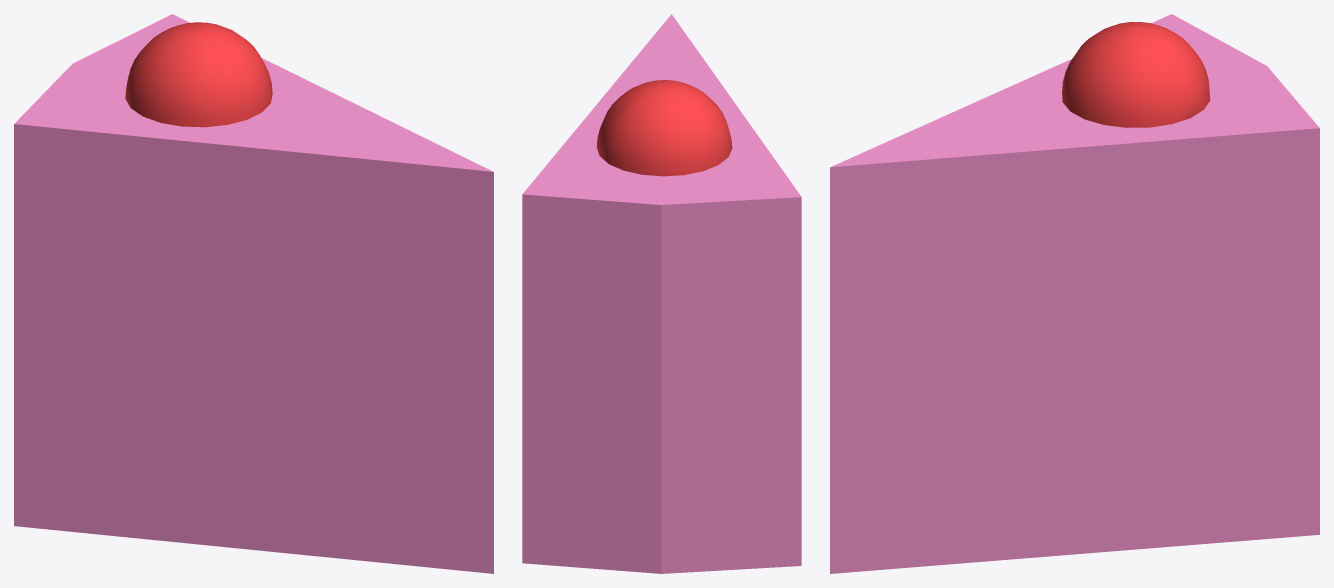
The model's file is ToyObject_220.fbx.
The picture shows the model from 3 angles, left to right: view 1: azimuth 30°, elevation 25°; view 2: azimuth 150°, elevation 25°; view 3: azimuth 270°, elevation 25°; orthographic projection. The views are drawn at different scales.
Parts seen in each view (by area): view 1: Object.092; view 2: Object.092; view 3: Object.092.
Boxes of the visible parts, x1,y1,x2,y2 form: Object.092: (14,14,493,573); Object.092: (522,14,801,573); Object.092: (830,14,1319,573).
Size of the model in its own units: 0.101 by 0.1457 by 0.1363.
